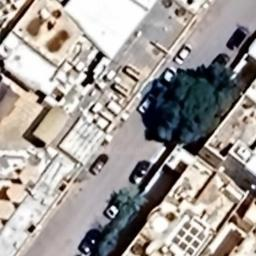SUV: (75, 224, 101, 256), (128, 158, 153, 186), (88, 151, 112, 179)
sedan: (173, 39, 194, 65)
unknown: (224, 24, 250, 52), (134, 90, 160, 116), (208, 52, 230, 73)
